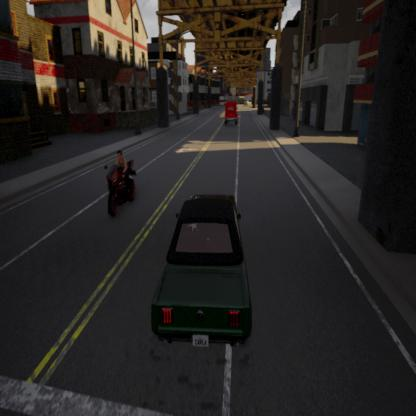Cars: (148, 184, 264, 360), (222, 92, 239, 131)
